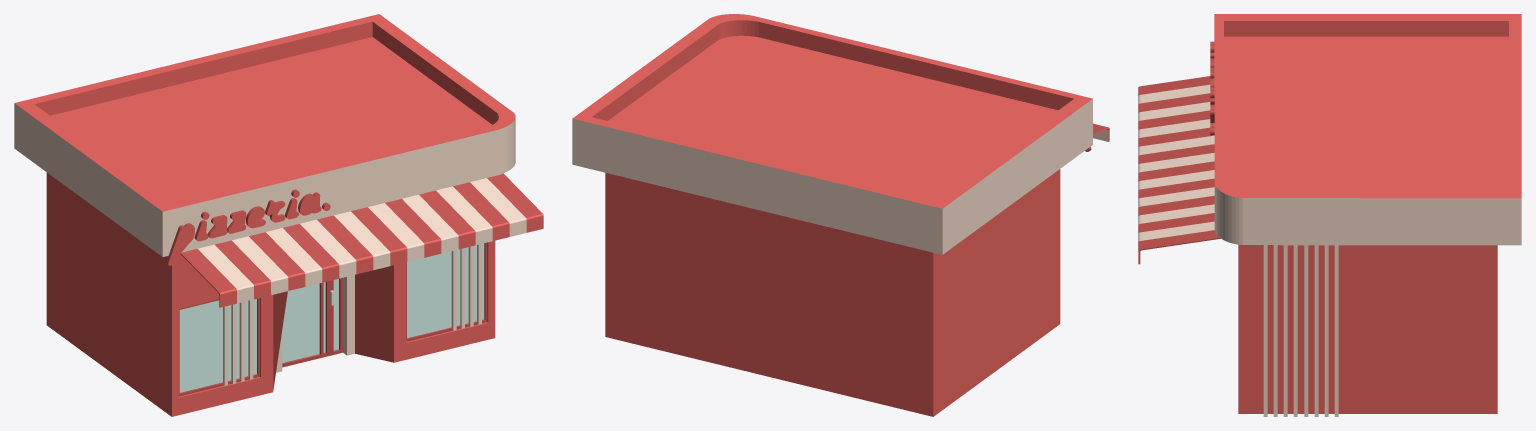
File: Pizzeria_1.fbx
3 renders of one model, left to right at view 1: azimuth 30°, elevation 25°; view 2: azimuth 150°, elevation 25°; view 3: azimuth 270°, elevation 25°, orthographic. The views are drawn at different scales.
Visible parts, largest first — view 1: pizzeria; view 2: pizzeria; view 3: pizzeria.
Part boxes in pixels (x1,y1,x2,y2): pizzeria: (14,14,543,416); pizzeria: (572,14,1109,416); pizzeria: (1138,14,1521,416).
Size of the model in its own units: 671 by 385 by 590.
